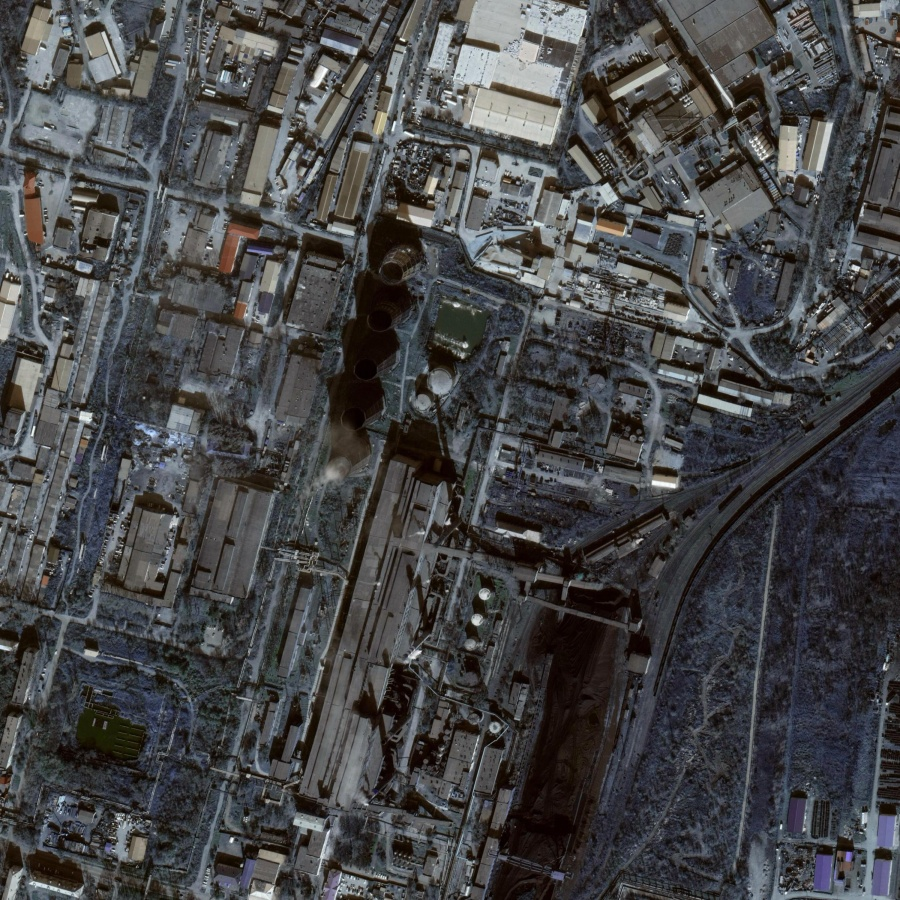PowerPlant: (295, 196, 465, 535)
